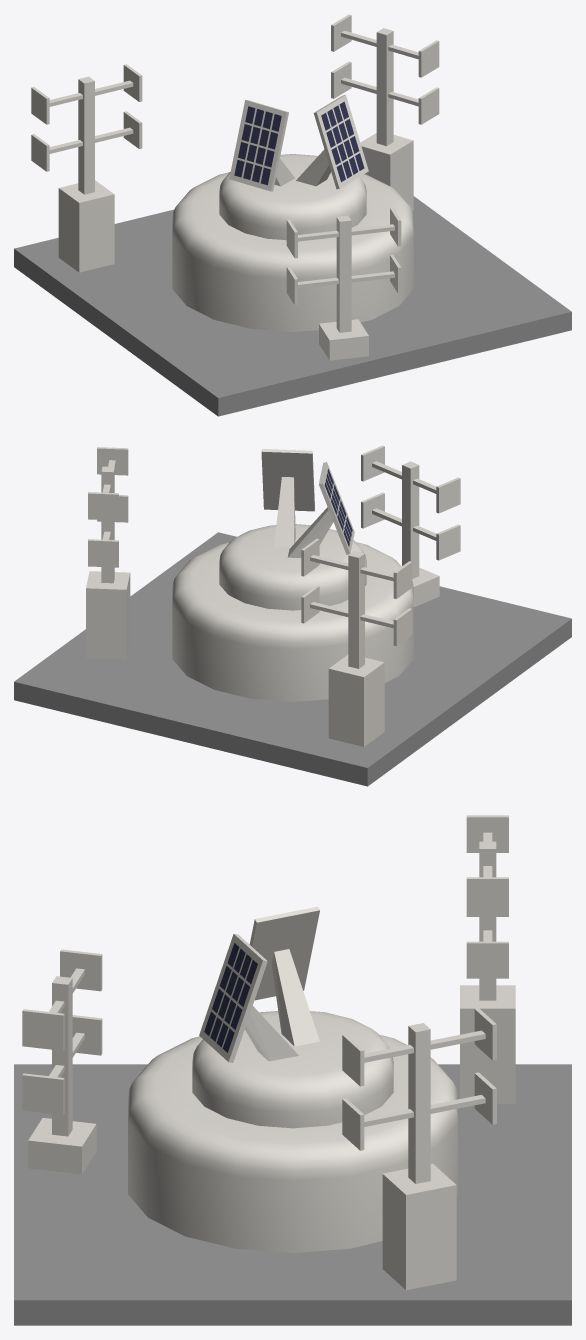
The model's file is 04 Network_Hub.FBX.
3 renders of one model, top to bottom at view 1: azimuth 30°, elevation 25°; view 2: azimuth 150°, elevation 25°; view 3: azimuth 270°, elevation 25°, orthographic. The views are drawn at different scales.
Visible parts, largest first — view 1: Cylinder004; view 2: Cylinder004; view 3: Cylinder004.
Part boxes in pixels (x1=…): Cylinder004: x1=14, y1=14, x2=571, y2=416; Cylinder004: x1=14, y1=445, x2=571, y2=786; Cylinder004: x1=14, y1=815, x2=571, y2=1325.
Size of the model in its own units: 2033 by 1089 by 2000.
